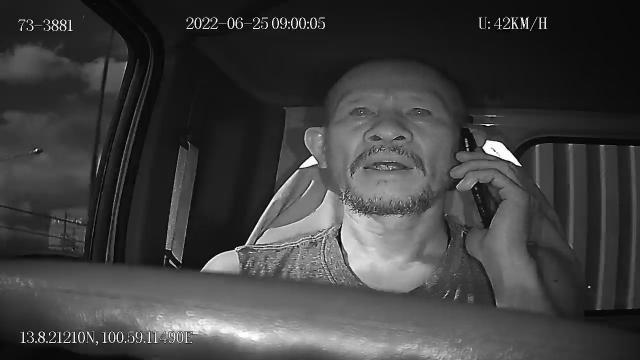PhoneUse: (462, 126, 494, 232)
SafeDriving: (342, 96, 382, 128), (398, 97, 439, 124)
